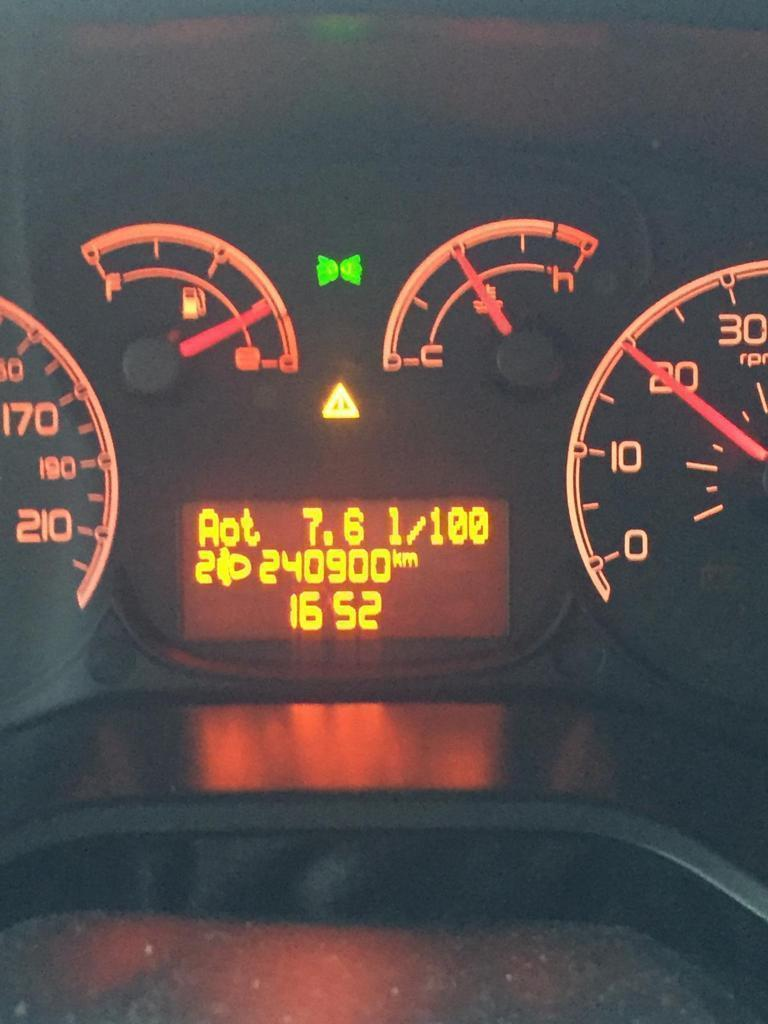,: (323, 529, 334, 547)
0: (468, 504, 490, 546), (446, 504, 467, 545), (369, 547, 391, 585), (302, 548, 325, 584), (347, 548, 369, 584)
1: (428, 504, 444, 546), (285, 591, 298, 631)
2: (356, 588, 383, 630), (193, 548, 216, 585), (257, 548, 280, 585)
4: (280, 548, 303, 584)
5: (331, 588, 356, 631)
6: (297, 589, 325, 632), (340, 505, 367, 546)
7: (299, 505, 322, 547)
9: (324, 547, 347, 584)
X: (194, 506, 219, 548), (240, 504, 261, 548), (385, 504, 403, 546), (405, 514, 427, 546), (219, 515, 240, 547), (402, 550, 419, 568), (392, 547, 402, 568)
odometer: (168, 487, 518, 652)
